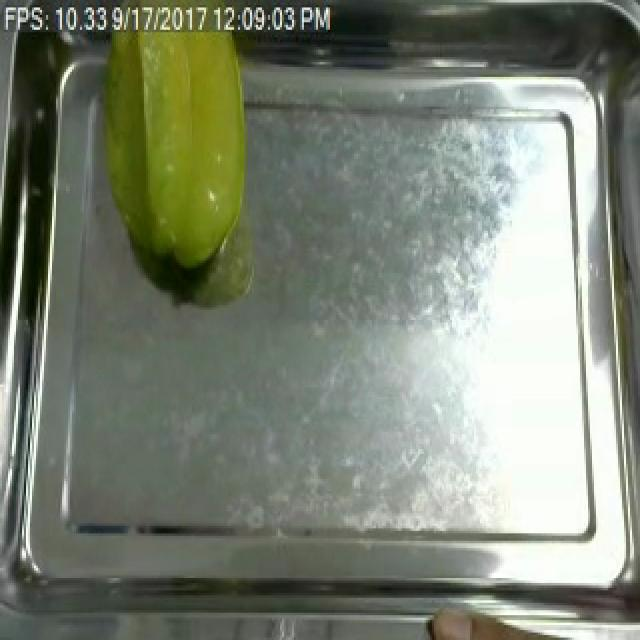fruit: (86, 32, 260, 283)
